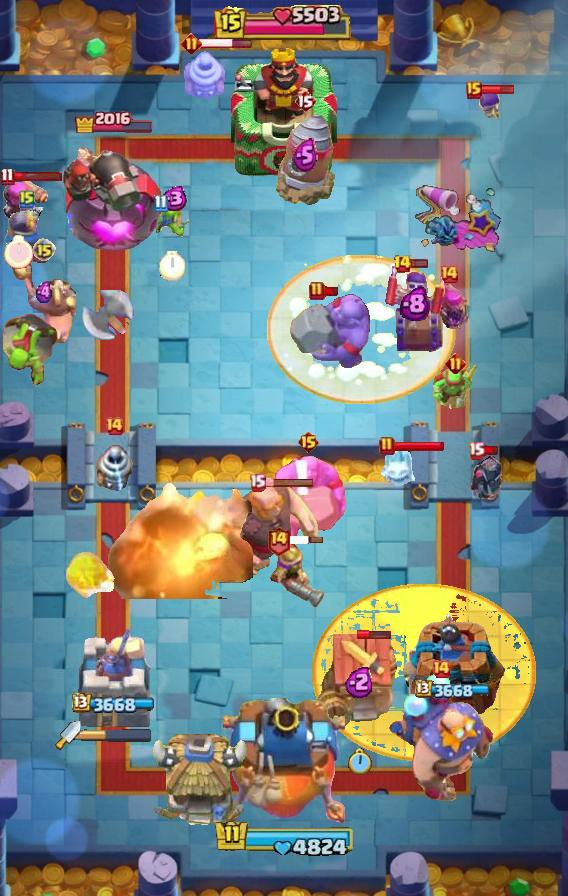archer-queen: (268, 454, 348, 548), (287, 293, 375, 373)
balloon: (214, 478, 322, 578)
bar: (75, 623, 153, 731)
bar-level: (0, 309, 60, 385)
bat: (378, 450, 422, 490)
battle-ram: (469, 449, 505, 503)
bomb-tower: (267, 539, 325, 609)
clock: (210, 818, 358, 860), (214, 5, 354, 43)
electro-spirit: (400, 287, 430, 322), (345, 666, 375, 699), (292, 138, 318, 172), (157, 185, 187, 210), (34, 280, 55, 304)
elixir: (4, 235, 32, 269), (159, 251, 185, 281), (348, 747, 373, 776)
emote: (393, 440, 445, 452), (199, 38, 253, 49), (263, 476, 315, 487), (13, 171, 63, 182), (481, 84, 516, 95), (357, 628, 392, 639), (288, 535, 324, 545), (411, 259, 430, 270), (323, 287, 341, 298), (483, 444, 501, 455)
evolution-symbol: (425, 282, 473, 344)
firecracker: (6, 207, 51, 273)
freeze: (12, 259, 76, 345)
giant-snowball: (432, 362, 478, 410)
goblin: (473, 87, 503, 127)
goblin-drill: (181, 46, 227, 100), (91, 438, 137, 492)
king-tower: (223, 698, 345, 826), (231, 43, 337, 181)
king-tower-bar: (81, 728, 153, 742)
little-prince: (387, 671, 495, 805)
magic-archer: (275, 112, 335, 206)
phoenix-big: (268, 256, 456, 405)
phoenix-egg: (312, 583, 536, 761)
prince: (148, 734, 250, 830)
queen-tower: (401, 613, 505, 731)
royal-giant: (82, 290, 142, 350)
selected: (73, 108, 154, 133), (71, 693, 156, 715), (416, 680, 493, 700)
skeleton-king-bar: (384, 263, 446, 355)
sparky: (317, 633, 403, 731)
text: (266, 525, 291, 556), (32, 238, 56, 262), (296, 430, 319, 454), (294, 89, 316, 113), (181, 33, 202, 55), (446, 353, 467, 375), (439, 264, 459, 284), (104, 416, 124, 436), (431, 659, 451, 679), (393, 254, 412, 274), (467, 441, 485, 459), (249, 472, 266, 491), (19, 189, 35, 209), (309, 281, 325, 301), (379, 436, 395, 456), (466, 81, 482, 99), (1, 167, 16, 186), (153, 195, 167, 214)
tombstone: (0, 174, 50, 226)
tower-bar: (63, 136, 165, 256)
valkyrie: (93, 471, 253, 599), (63, 547, 115, 603)
zap: (151, 201, 193, 243)
